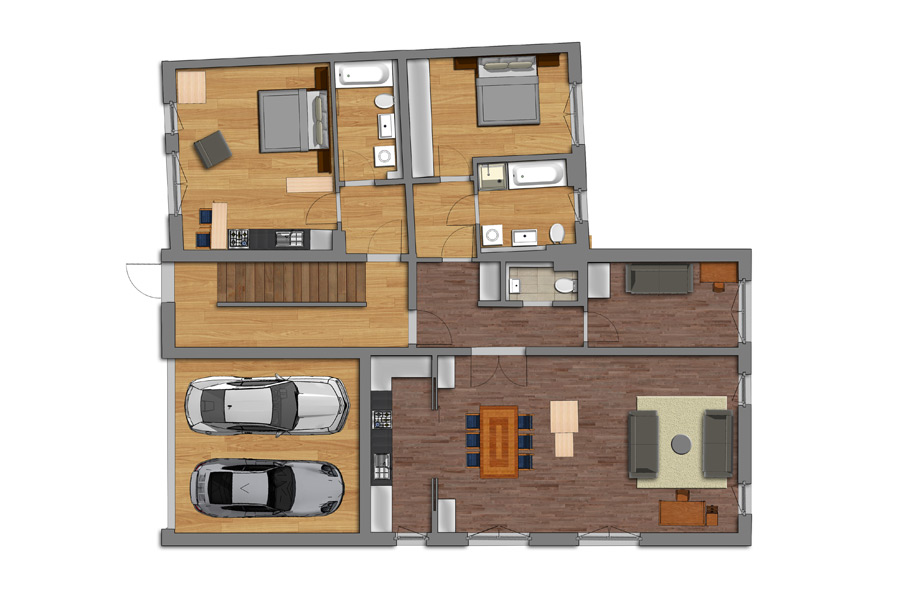restroom: (473, 158, 593, 262), (330, 54, 408, 177)
room: (360, 347, 752, 546), (162, 347, 371, 546), (163, 62, 335, 262), (583, 249, 752, 355), (406, 50, 585, 150)
